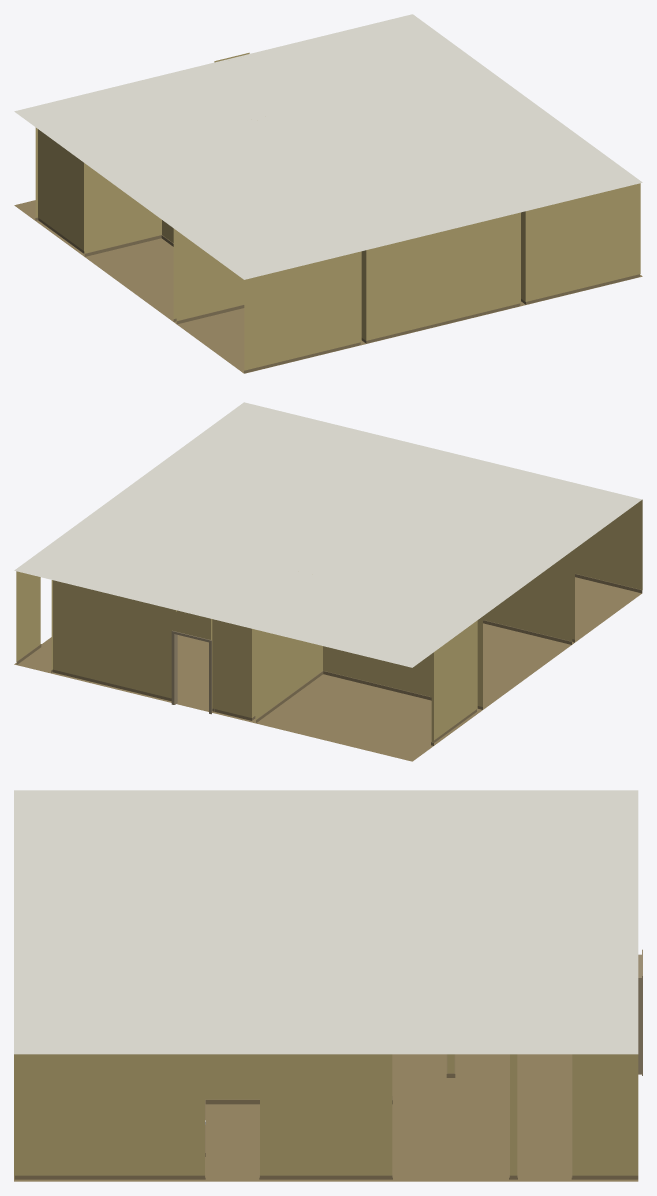
The model's file is chunk_1_5.glb.
3 renders of one model, top to bottom at view 1: azimuth 30°, elevation 25°; view 2: azimuth 150°, elevation 25°; view 3: azimuth 270°, elevation 25°, orthographic. The views are drawn at different scales.
Visible parts, largest first — view 1: chunk_1_5; view 2: chunk_1_5; view 3: chunk_1_5.
Boxes of the visible parts, left/top/right/bottom form: chunk_1_5: left=14, top=14, right=642, bottom=373; chunk_1_5: left=14, top=402, right=642, bottom=761; chunk_1_5: left=14, top=790, right=642, bottom=1181.
Size of the model in its own units: 12.03 by 2.7 by 12.09.
